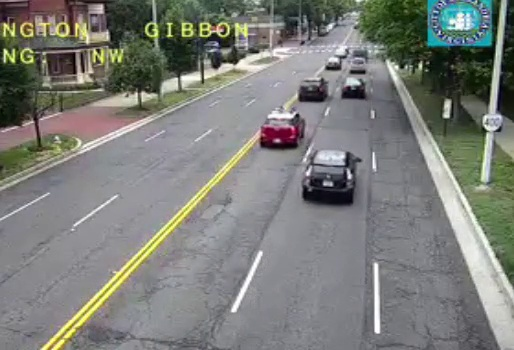car: (302, 151, 356, 196), (259, 114, 305, 144), (298, 77, 327, 101), (342, 78, 364, 97)
